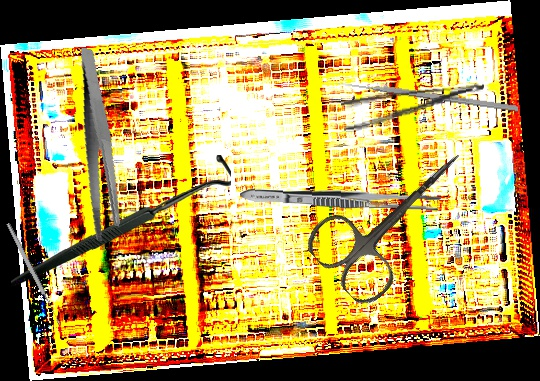Dressing Forceps: (52, 47, 146, 244), (340, 81, 488, 133), (239, 185, 442, 213)
Hook Surgical: (10, 151, 232, 290)
Iris Scissors: (299, 121, 493, 312)
Pusher: (334, 79, 519, 112)
Surgical Spoon: (5, 222, 62, 326)
